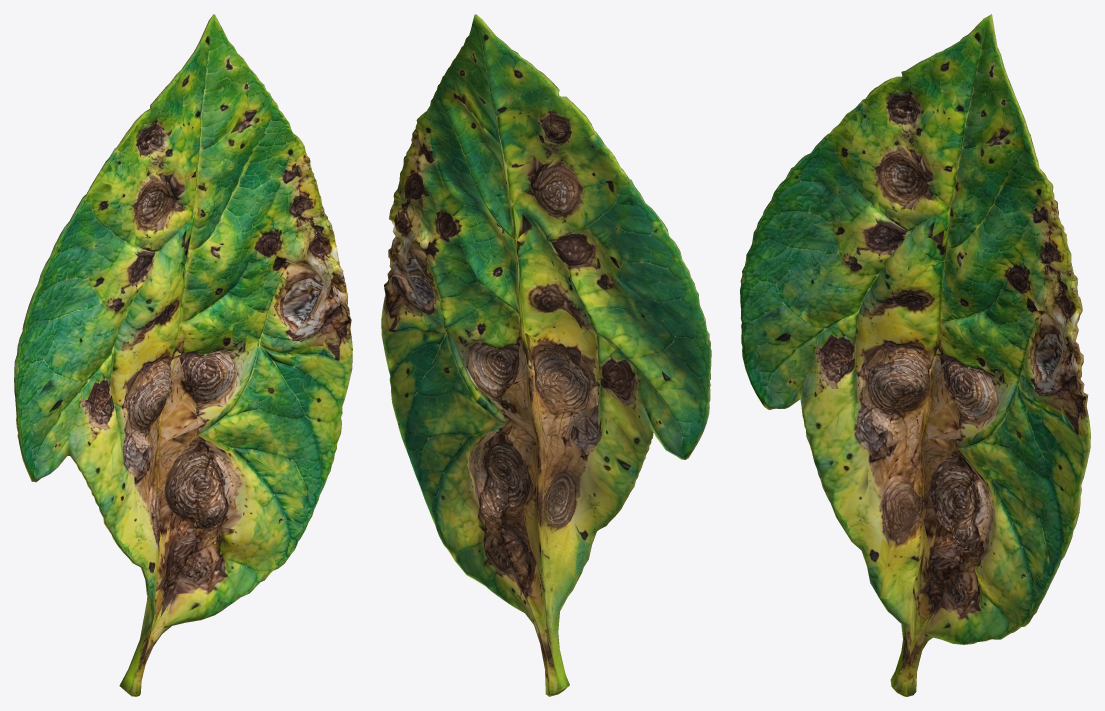
Rendered from potato_early_blight.glb.
3 views of the same model, side by side, from view 1: azimuth 30°, elevation 25°; view 2: azimuth 150°, elevation 25°; view 3: azimuth 330°, elevation 25° (orthographic). The views are drawn at different scales.
Parts seen in each view (by area): view 1: potato_early_blight; view 2: potato_early_blight; view 3: potato_early_blight.
Boxes of the visible parts, x1,y1,x2,y2 form: potato_early_blight: (14, 14, 352, 696); potato_early_blight: (381, 14, 711, 696); potato_early_blight: (740, 14, 1090, 696).
Bounding box in the file's own units: 0.5281 × 1 × 0.0905.
1 material, 1 textured.
